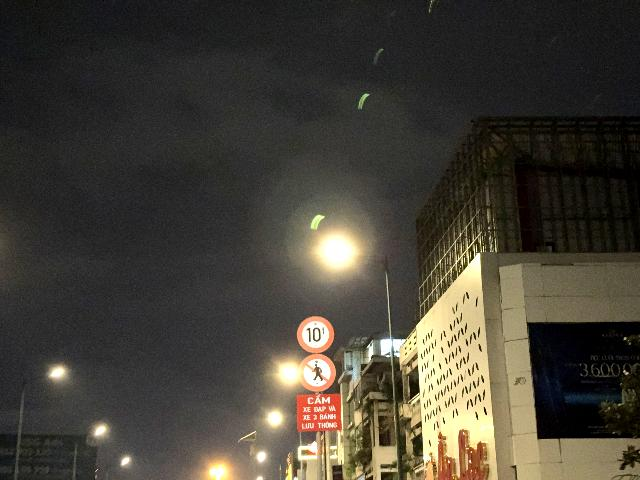cam-nguoi-di-bo: (298, 353, 336, 392)
han-che-trong-luong-xe: (296, 316, 334, 353)
